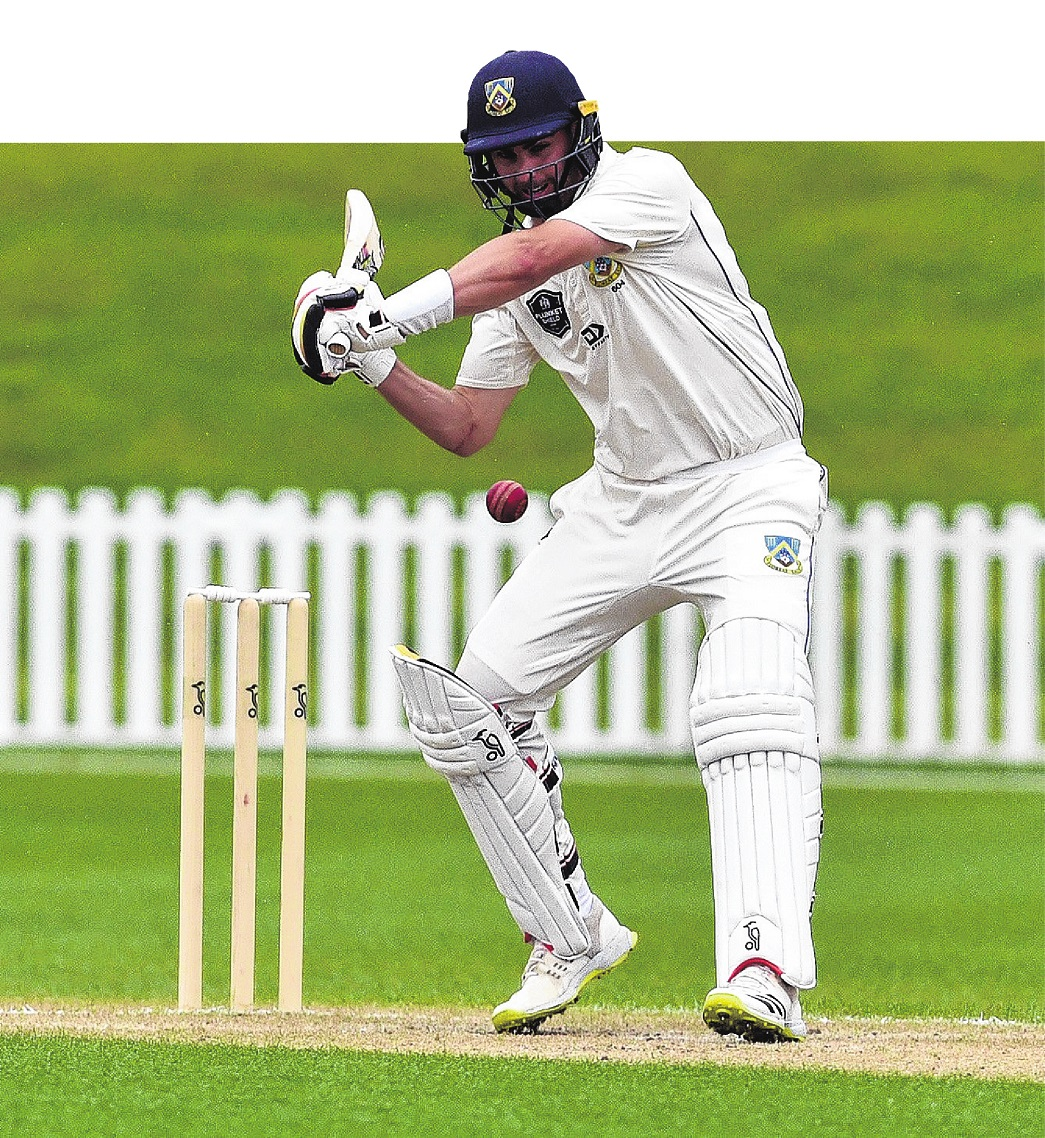Cutshot: (118, 44, 1029, 1103)
